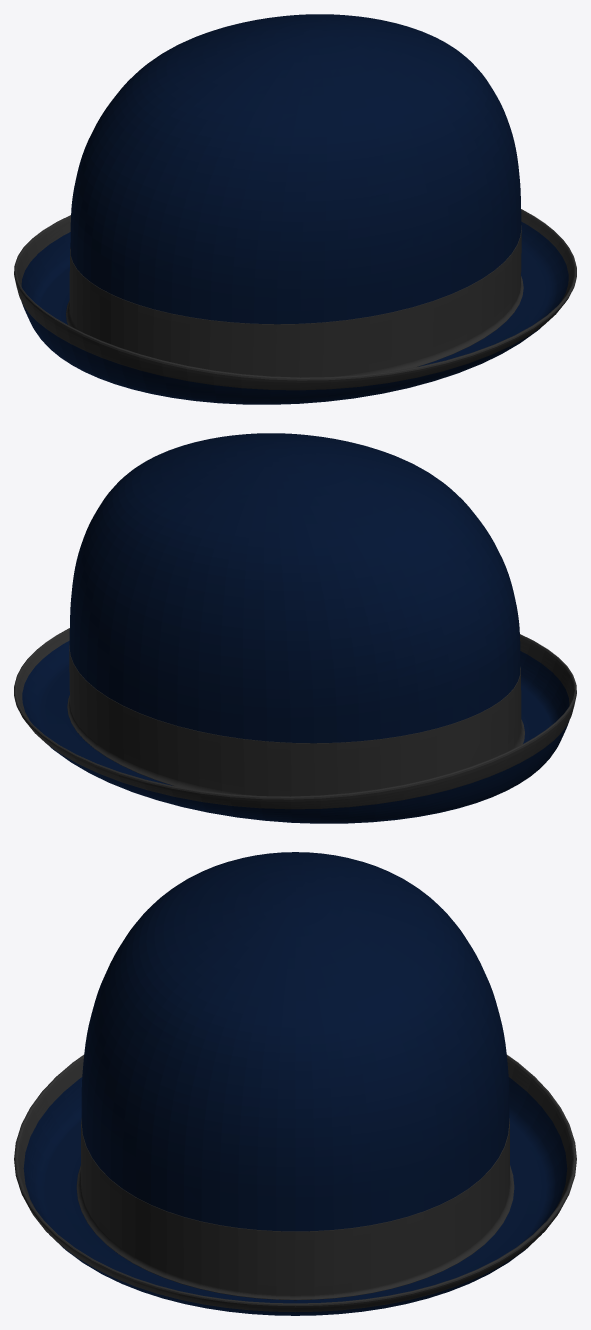
The model's file is HatNew000.fbx.
3 views of the same model, one above another, from view 1: azimuth 30°, elevation 25°; view 2: azimuth 150°, elevation 25°; view 3: azimuth 270°, elevation 25° (orthographic). The views are drawn at different scales.
Parts seen in each view (by area): view 1: Line04; view 2: Line04; view 3: Line04.
Boxes of the visible parts, x1,y1,x2,y2 form: Line04: (14,14,576,404); Line04: (14,433,576,823); Line04: (14,852,576,1315).
Size of the model in its own units: 1.58 by 0.8099 by 1.37.
